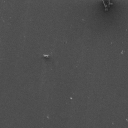corrosion: (101, 1, 115, 13), (42, 53, 50, 60), (120, 49, 125, 55), (69, 96, 74, 100)
